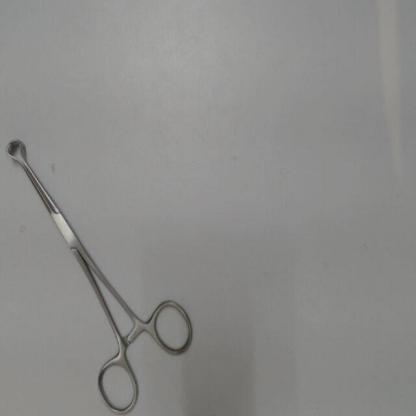Babcock Tissue Forceps: (3, 129, 198, 414)
